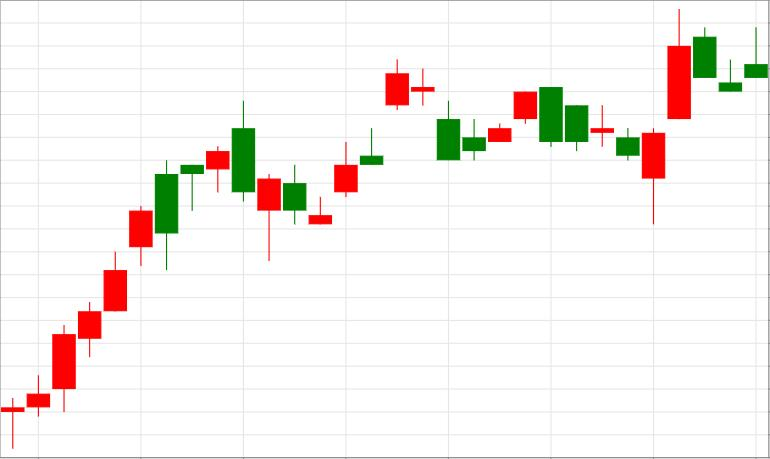bearish_engulfing_fall: (1, 99, 255, 449)
